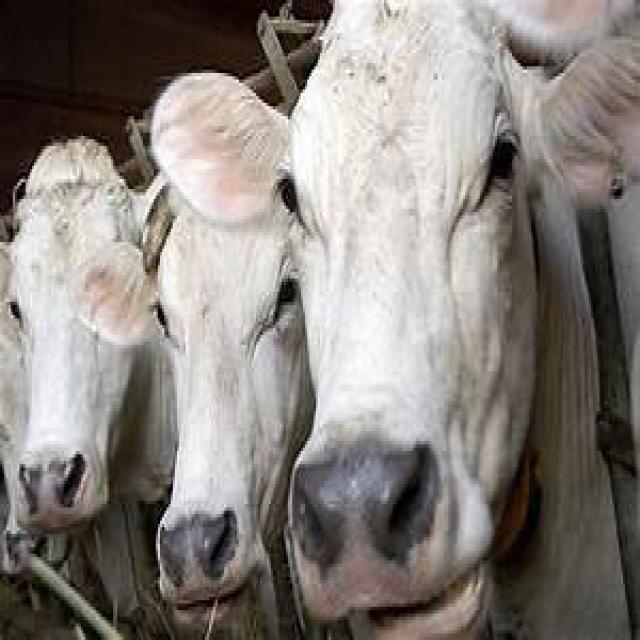cow: (285, 4, 640, 636), (76, 76, 314, 636), (10, 138, 175, 529)
